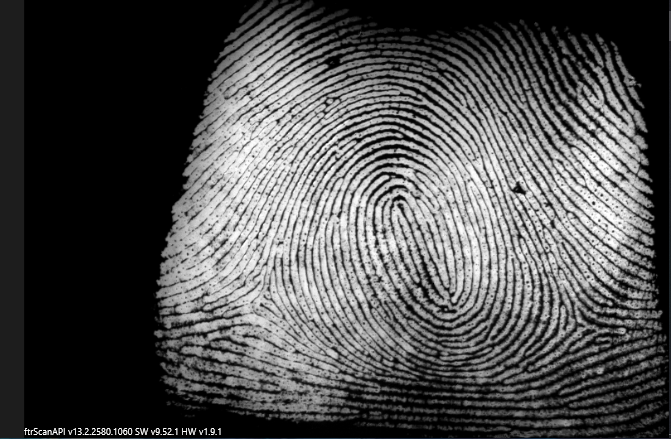nucelo: (382, 197, 428, 254)
verticilo: (239, 289, 281, 319), (561, 307, 595, 334)
